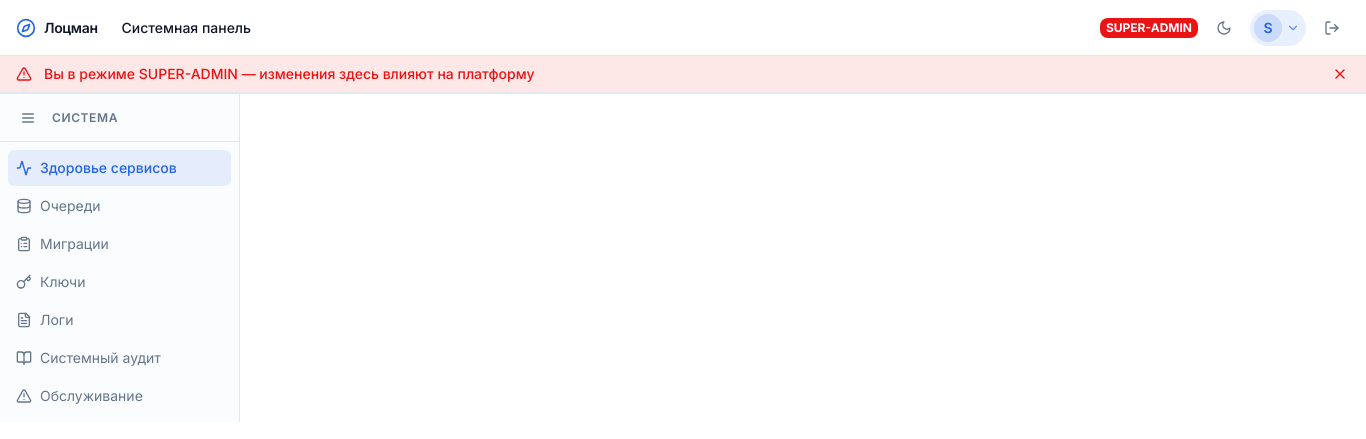
Test: SystemLayout — super admin banner › banner is dismissible
Expected: the message "Вы в режиме SUPER-ADMIN — изменения здесь влияют на платформу" is shown, [0,56,1365,94]
Find dismiss button
Click the button named "закрыть": (1340, 74) [1330,64,1350,84]
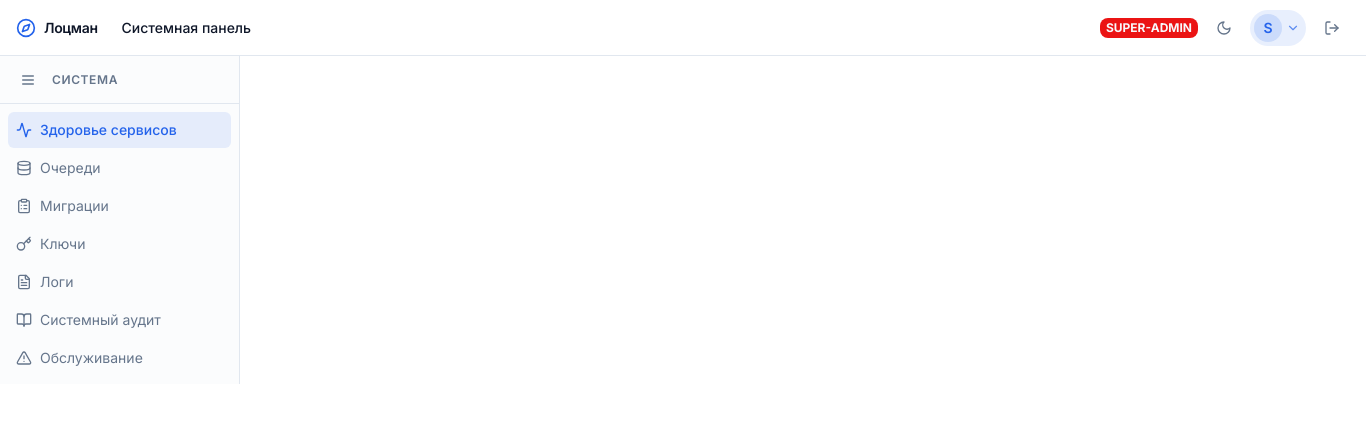
Now the message "Вы в режиме SUPER-ADMIN — изменения здесь влияют на платформу" is gone
